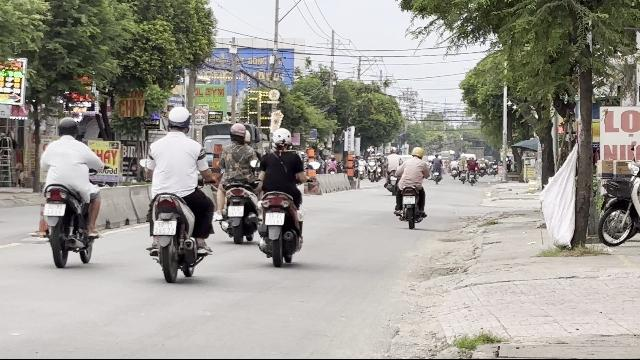helmet: (164, 106, 192, 134), (56, 116, 78, 138), (270, 128, 292, 150), (229, 122, 247, 142)
licenseplate: (154, 221, 176, 235), (266, 212, 284, 226), (45, 204, 65, 216), (228, 206, 244, 216)
motorcyclist: (141, 100, 215, 282), (33, 115, 105, 266), (256, 126, 308, 266), (213, 121, 261, 243)
